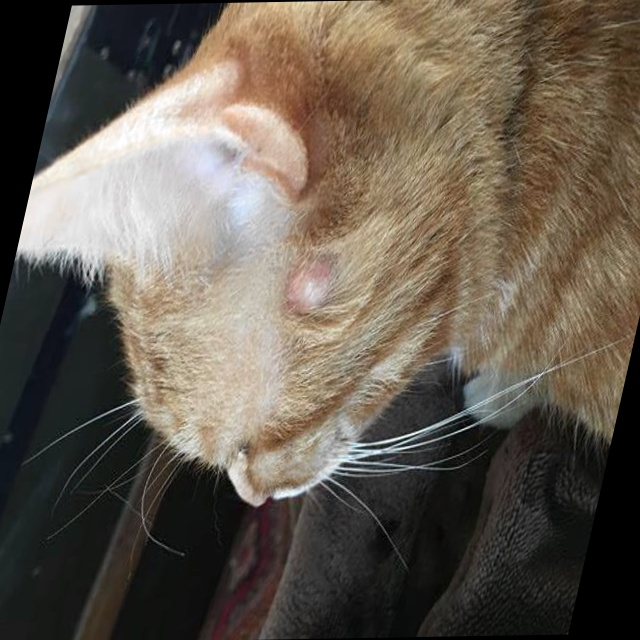lump_and_bump: (274, 251, 349, 314)
